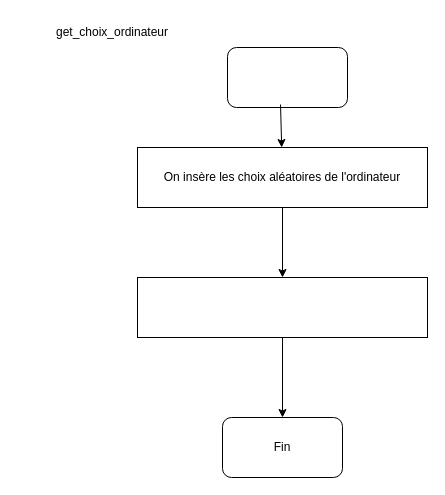
Image size: 445x495. Some labels were removed from this diagram. The centre of each missing label's shape, as x and y in pixels:
"Début" goes at point 287,77.
"On retourne le choix" goes at point 282,307.
